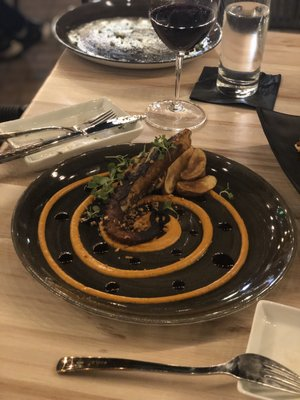burger: (58, 352, 300, 398), (0, 110, 117, 160), (0, 110, 117, 142)
pizza: (215, 0, 270, 100)
